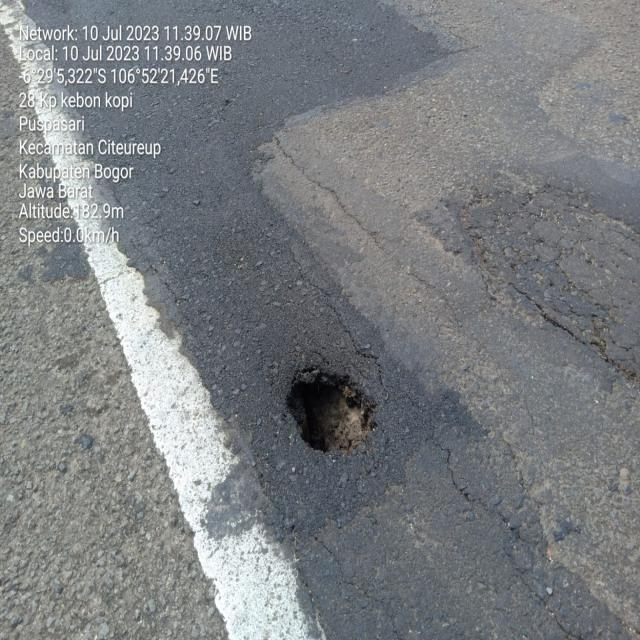Buraco: (280, 361, 383, 461)
